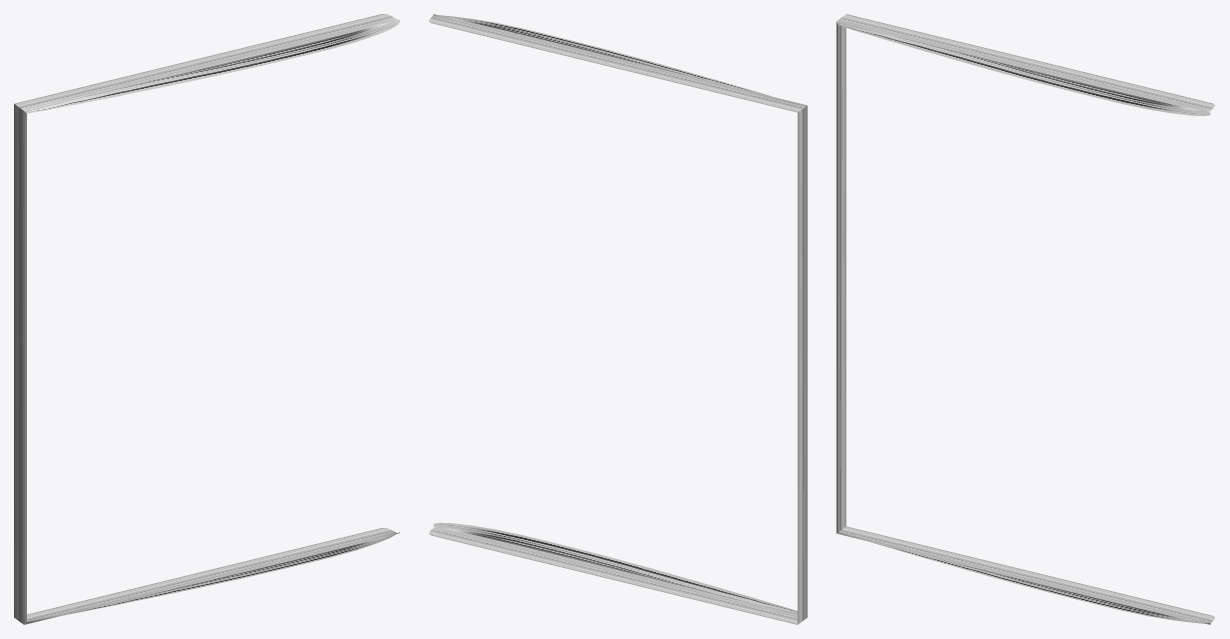
The model's file is MeshBook_8_0_GeomSubset_1.obj.
3 renders of one model, left to right at view 1: azimuth 30°, elevation 25°; view 2: azimuth 150°, elevation 25°; view 3: azimuth 330°, elevation 25°, orthographic.
Visible parts, largest first — view 1: MeshBook_8_0_GeomSubset_1; view 2: MeshBook_8_0_GeomSubset_1; view 3: MeshBook_8_0_GeomSubset_1.
Boxes of the visible parts, left/top/right/bottom form: MeshBook_8_0_GeomSubset_1: left=14, top=14, right=399, bottom=624; MeshBook_8_0_GeomSubset_1: left=428, top=14, right=807, bottom=624; MeshBook_8_0_GeomSubset_1: left=836, top=14, right=1215, bottom=624.
Size of the model in its own units: 0.195 by 0.2552 by 0.0185.
